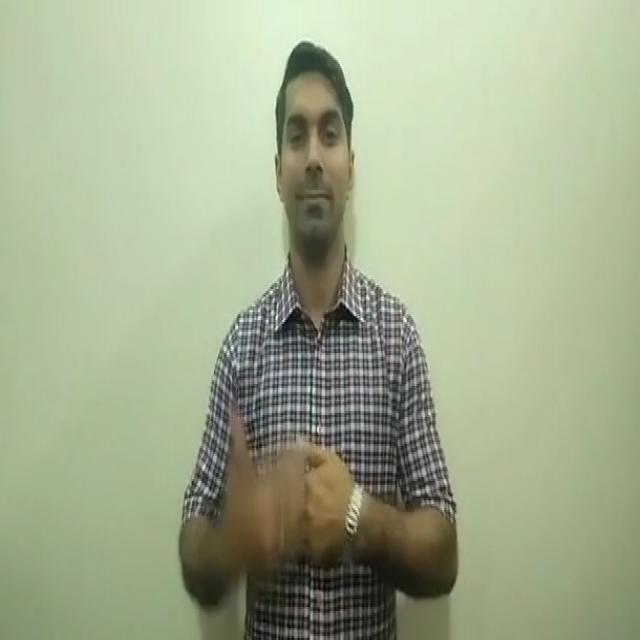bread: (174, 400, 394, 624)
